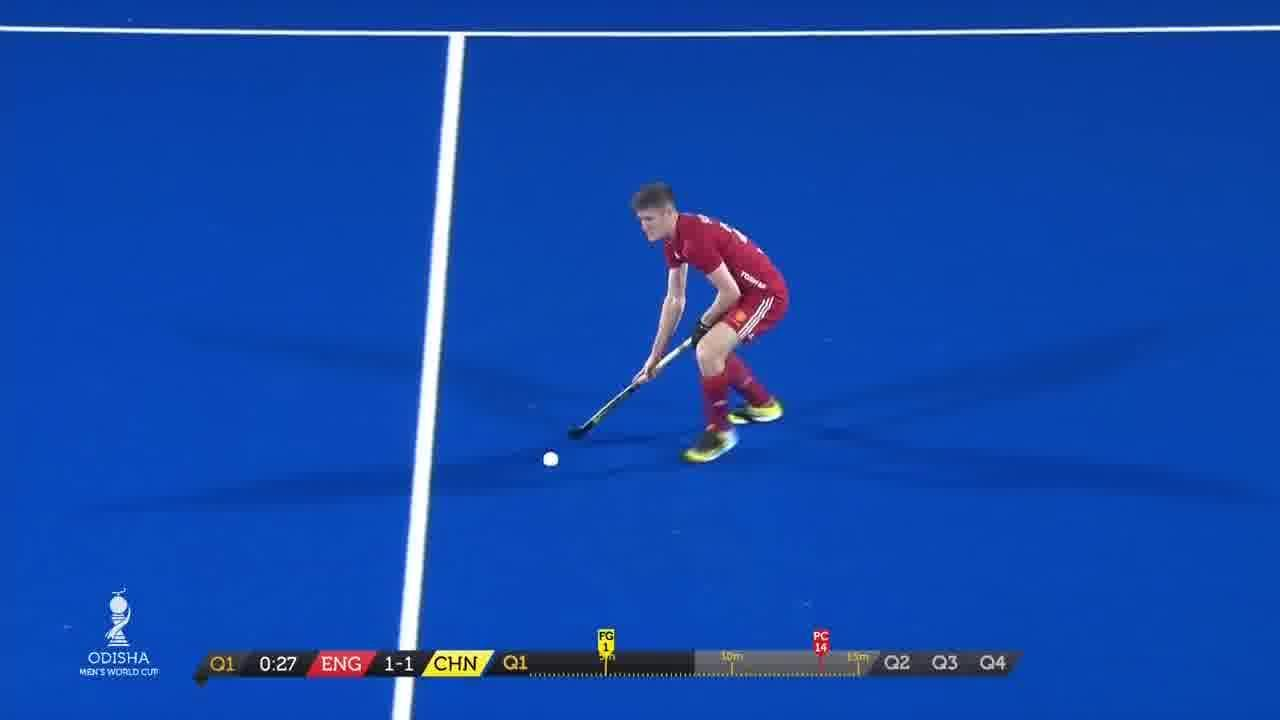ball: (538, 447, 561, 473)
